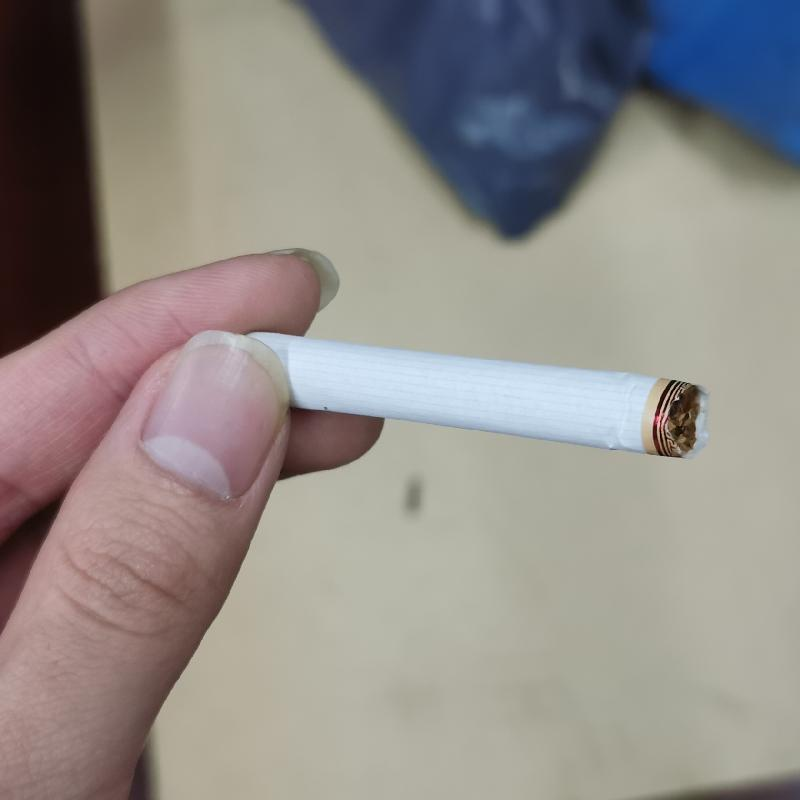cigarette: (242, 316, 709, 468)
